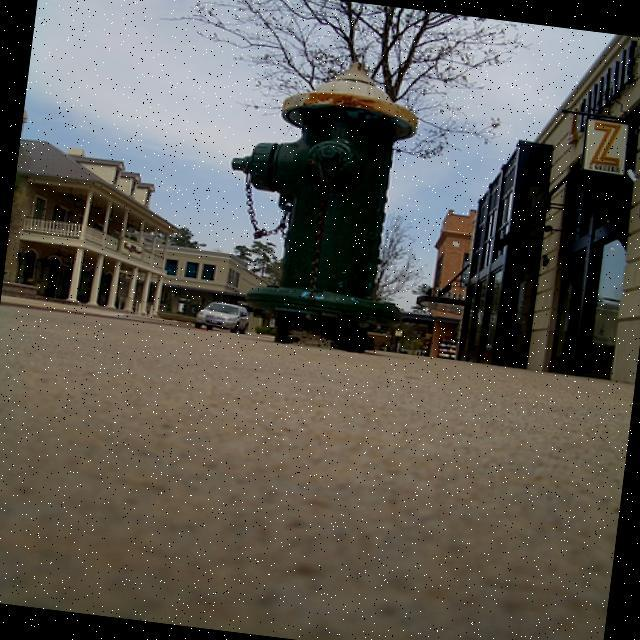fire_hydrant: (210, 45, 430, 356)
